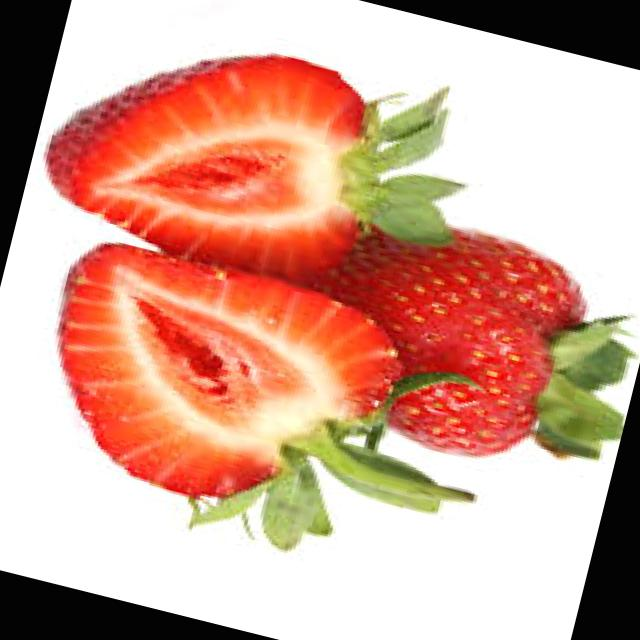strawberry: (25, 0, 467, 322), (19, 232, 429, 545), (283, 200, 640, 492)
